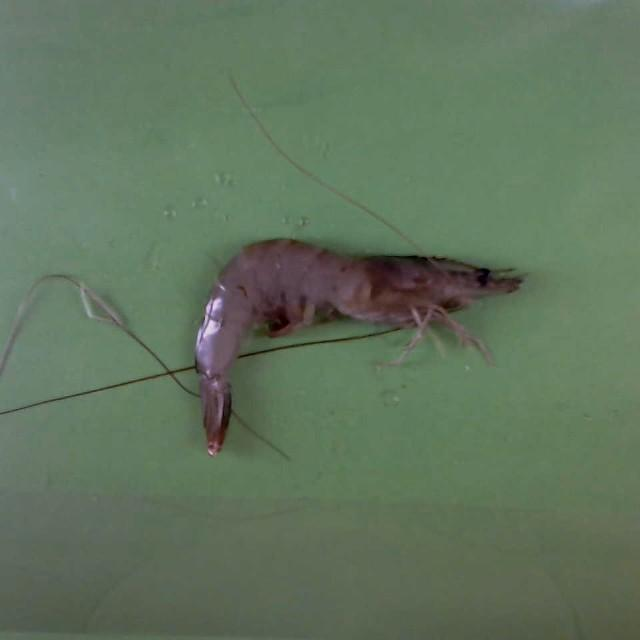shrimp: (196, 239, 524, 456)
